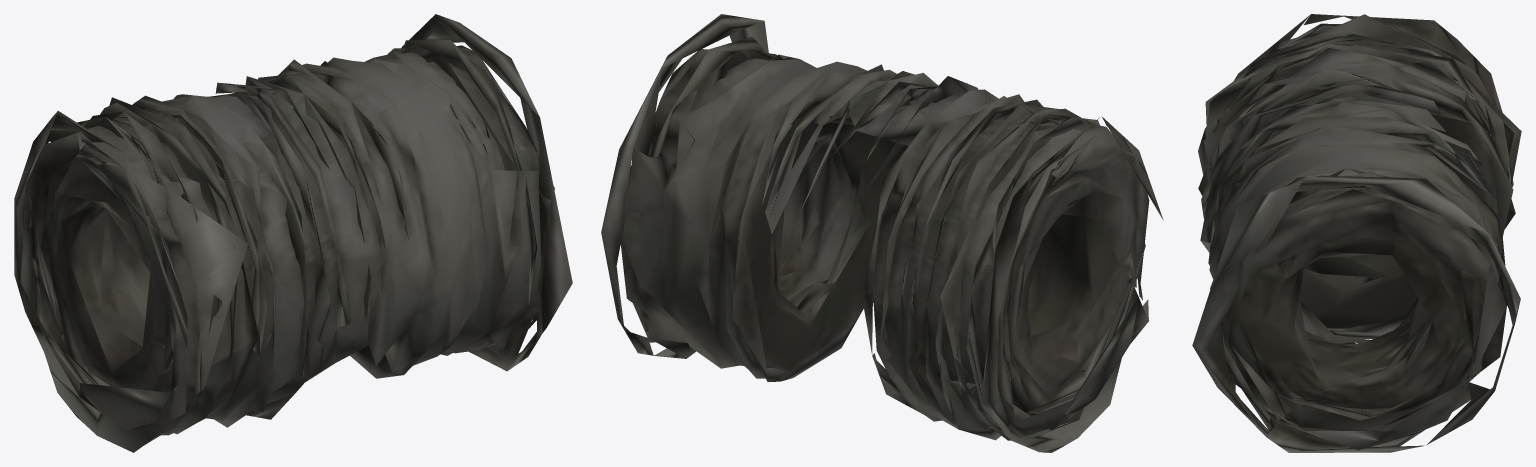
The model's file is spring_coil_lod1.glb.
The picture shows the model from 3 angles, left to right: view 1: azimuth 30°, elevation 25°; view 2: azimuth 150°, elevation 25°; view 3: azimuth 270°, elevation 25°; orthographic projection. The views are drawn at different scales.
Parts seen in each view (by area): view 1: spring_coil; view 2: spring_coil; view 3: spring_coil.
Part boxes in pixels (x1,y1,x2,y2): spring_coil: (14, 14, 572, 452); spring_coil: (601, 14, 1163, 452); spring_coil: (1192, 14, 1521, 452).
Size of the model in its own units: 0.12 by 0.0912 by 0.0947.
Materials: 1 (1 with a texture image).
